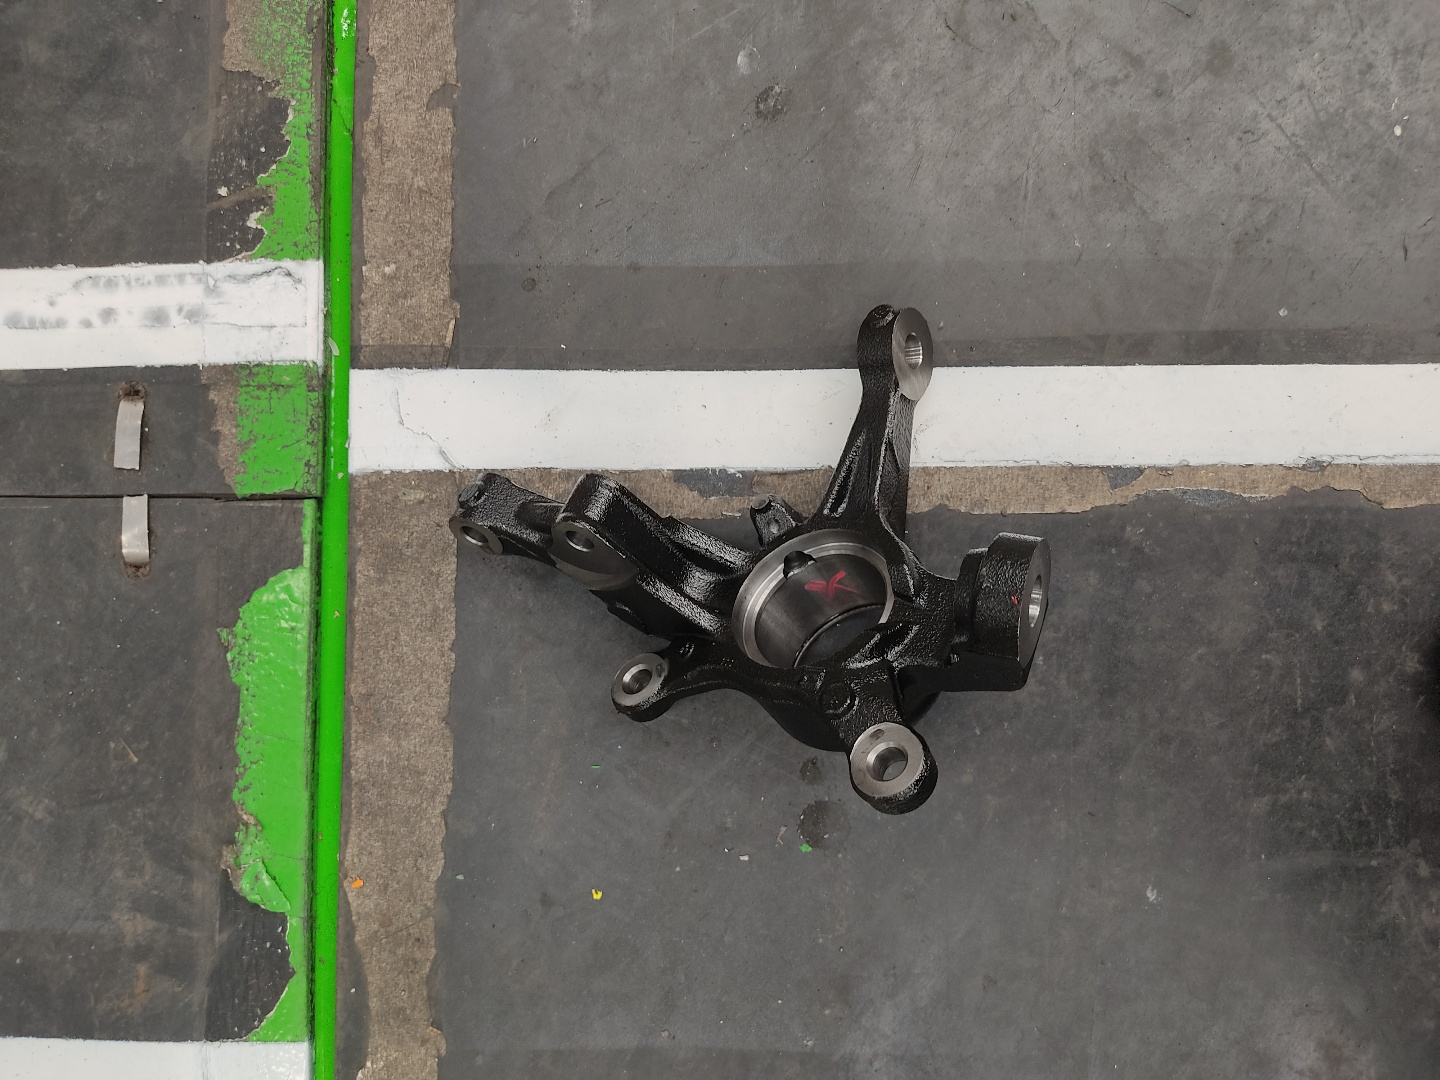abs-rh: (437, 282, 1064, 834)
